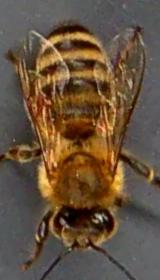varroa_mite: (30, 88, 56, 116)
